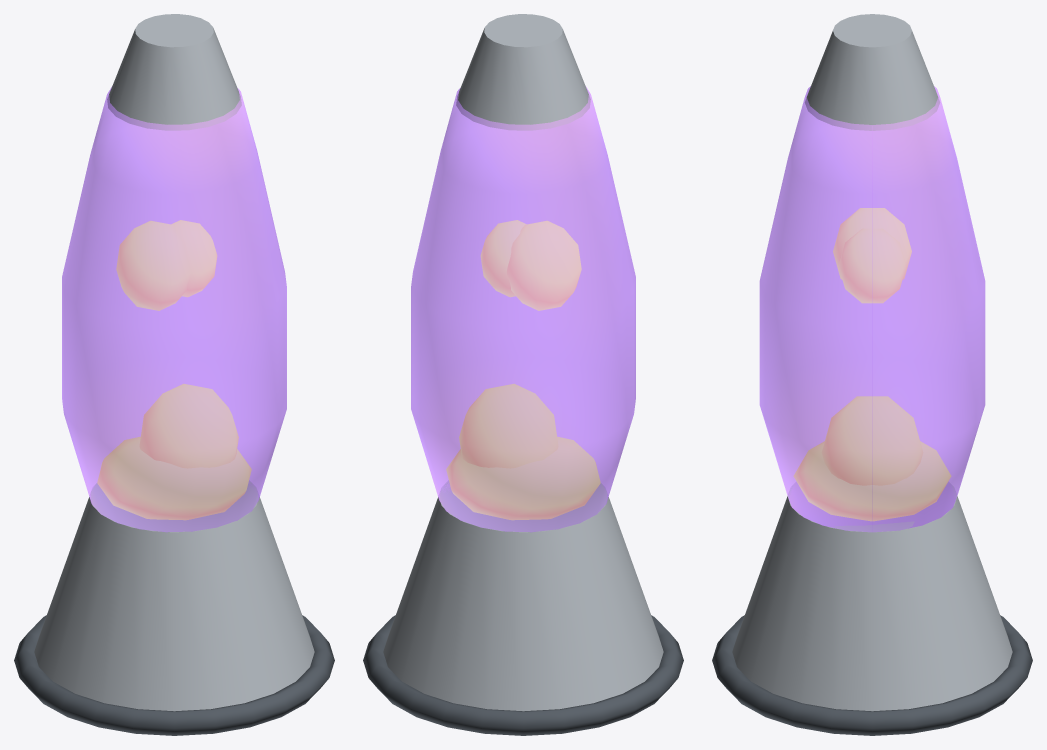
The model's file is lampada-lava.glb.
3 views of the same model, side by side, from view 1: azimuth 30°, elevation 25°; view 2: azimuth 150°, elevation 25°; view 3: azimuth 270°, elevation 25° (orthographic).
Visible parts, largest first — view 1: lampada, gota0, gota1, gota2; view 2: lampada, gota0, gota1, gota2; view 3: lampada, gota0, gota2, gota1.
Boxes of the visible parts, <box> form: lampada: <box>14,14,334,735</box>; gota0: <box>139,384,238,468</box>; gota1: <box>116,221,190,310</box>; gota2: <box>171,220,217,297</box>; lampada: <box>363,14,683,735</box>; gota0: <box>459,384,558,468</box>; gota1: <box>507,221,581,310</box>; gota2: <box>480,220,526,297</box>; lampada: <box>712,14,1032,735</box>; gota0: <box>821,396,923,485</box>; gota2: <box>838,228,906,303</box>; gota1: <box>833,208,911,279</box>.
Size of the model in its own units: 0.284 by 0.6264 by 0.284.
